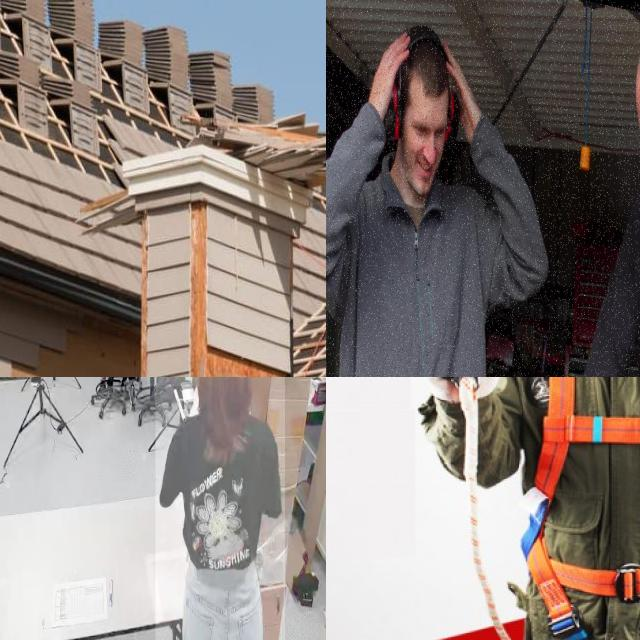Harness: (518, 377, 640, 640)
No_Glasses: (409, 114, 447, 141)
face_nomask: (406, 139, 444, 196)
hand_noglove: (444, 44, 482, 143), (369, 32, 409, 119)
head_nohelmet: (396, 25, 449, 135)
person: (155, 377, 285, 640)
